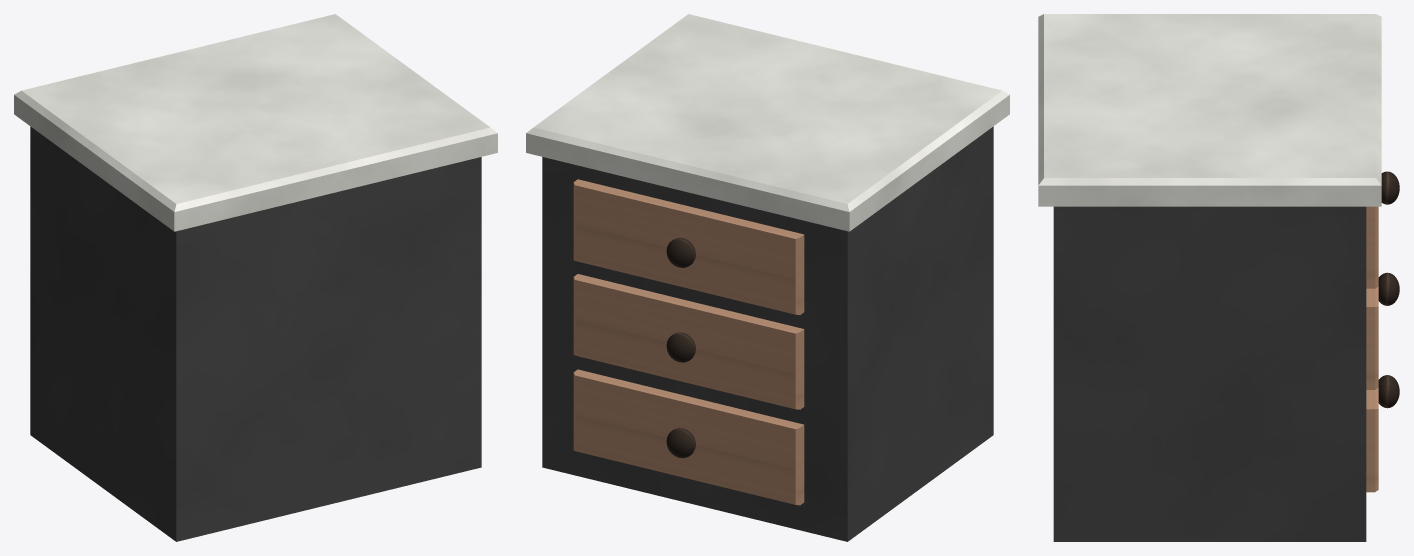
The model's file is KitchenDrawers.fbx.
The picture shows the model from 3 angles, left to right: view 1: azimuth 30°, elevation 25°; view 2: azimuth 150°, elevation 25°; view 3: azimuth 270°, elevation 25°; orthographic projection. The views are drawn at different scales.
Parts seen in each view (by area): view 1: Kitchen_Drawer; view 2: Kitchen_Drawer; view 3: Kitchen_Drawer.
Boxes of the visible parts, left/top/right/bottom form: Kitchen_Drawer: left=14, top=14, right=497, bottom=541; Kitchen_Drawer: left=526, top=14, right=1009, bottom=541; Kitchen_Drawer: left=1038, top=14, right=1399, bottom=541.
Bounding box in the file's own units: 101 × 102 × 91.06.
1 material, 1 textured.
